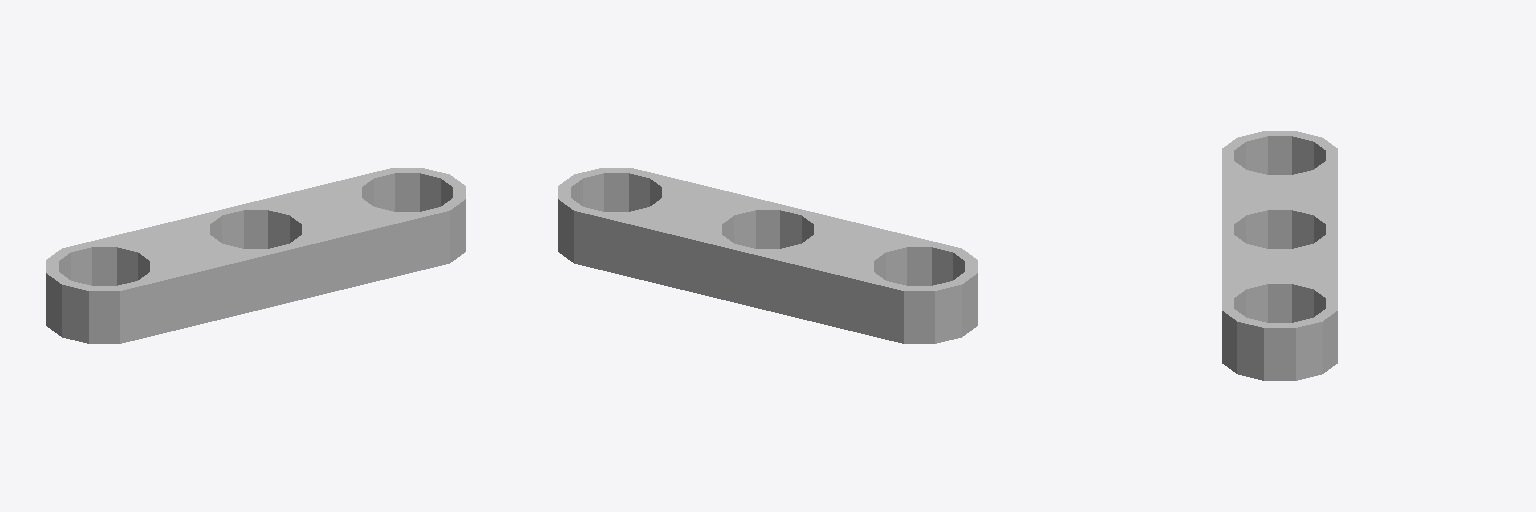
File: bracket3x.obj
3 views of the same model, side by side, from view 1: azimuth 30°, elevation 25°; view 2: azimuth 150°, elevation 25°; view 3: azimuth 270°, elevation 25° (orthographic).
Parts seen in each view (by area): view 1: tube; view 2: tube; view 3: tube.
Part boxes in pixels (x1,y1,x2,y2): tube: (46, 168, 465, 343); tube: (558, 168, 977, 343); tube: (1222, 131, 1337, 380).
Size of the model in its own units: 1 by 0.125 by 0.25.